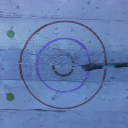Axe Tip: (80, 65, 93, 67)
